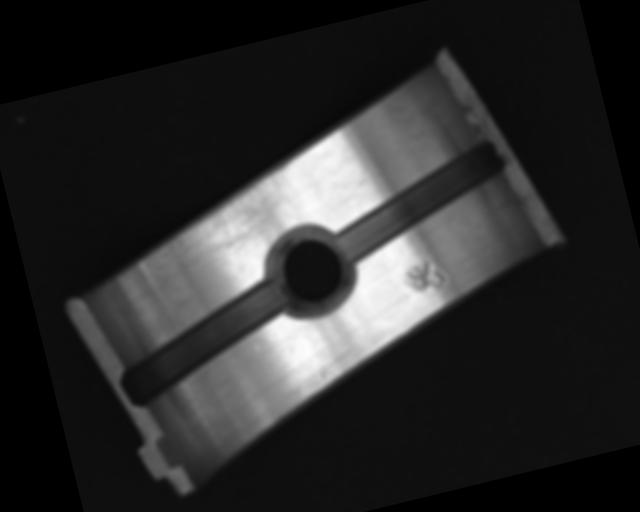bruise: (400, 253, 452, 297)
gap: (104, 275, 307, 410), (324, 139, 519, 263)
hole: (258, 217, 364, 324)
scratch: (142, 155, 317, 264)
